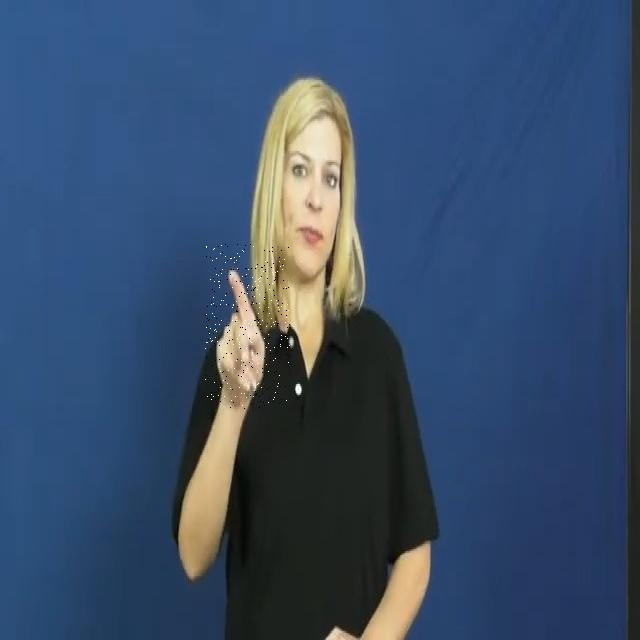ketchup: (205, 244, 290, 410)
